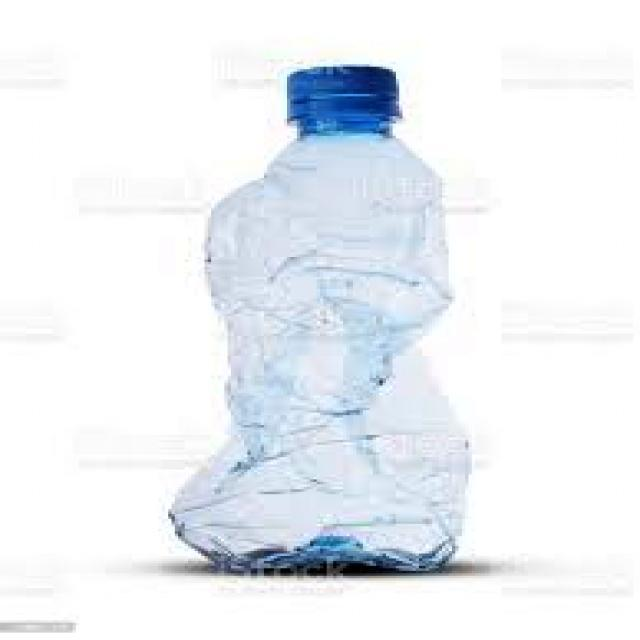BIODEGRADABLE: (162, 42, 490, 576)
